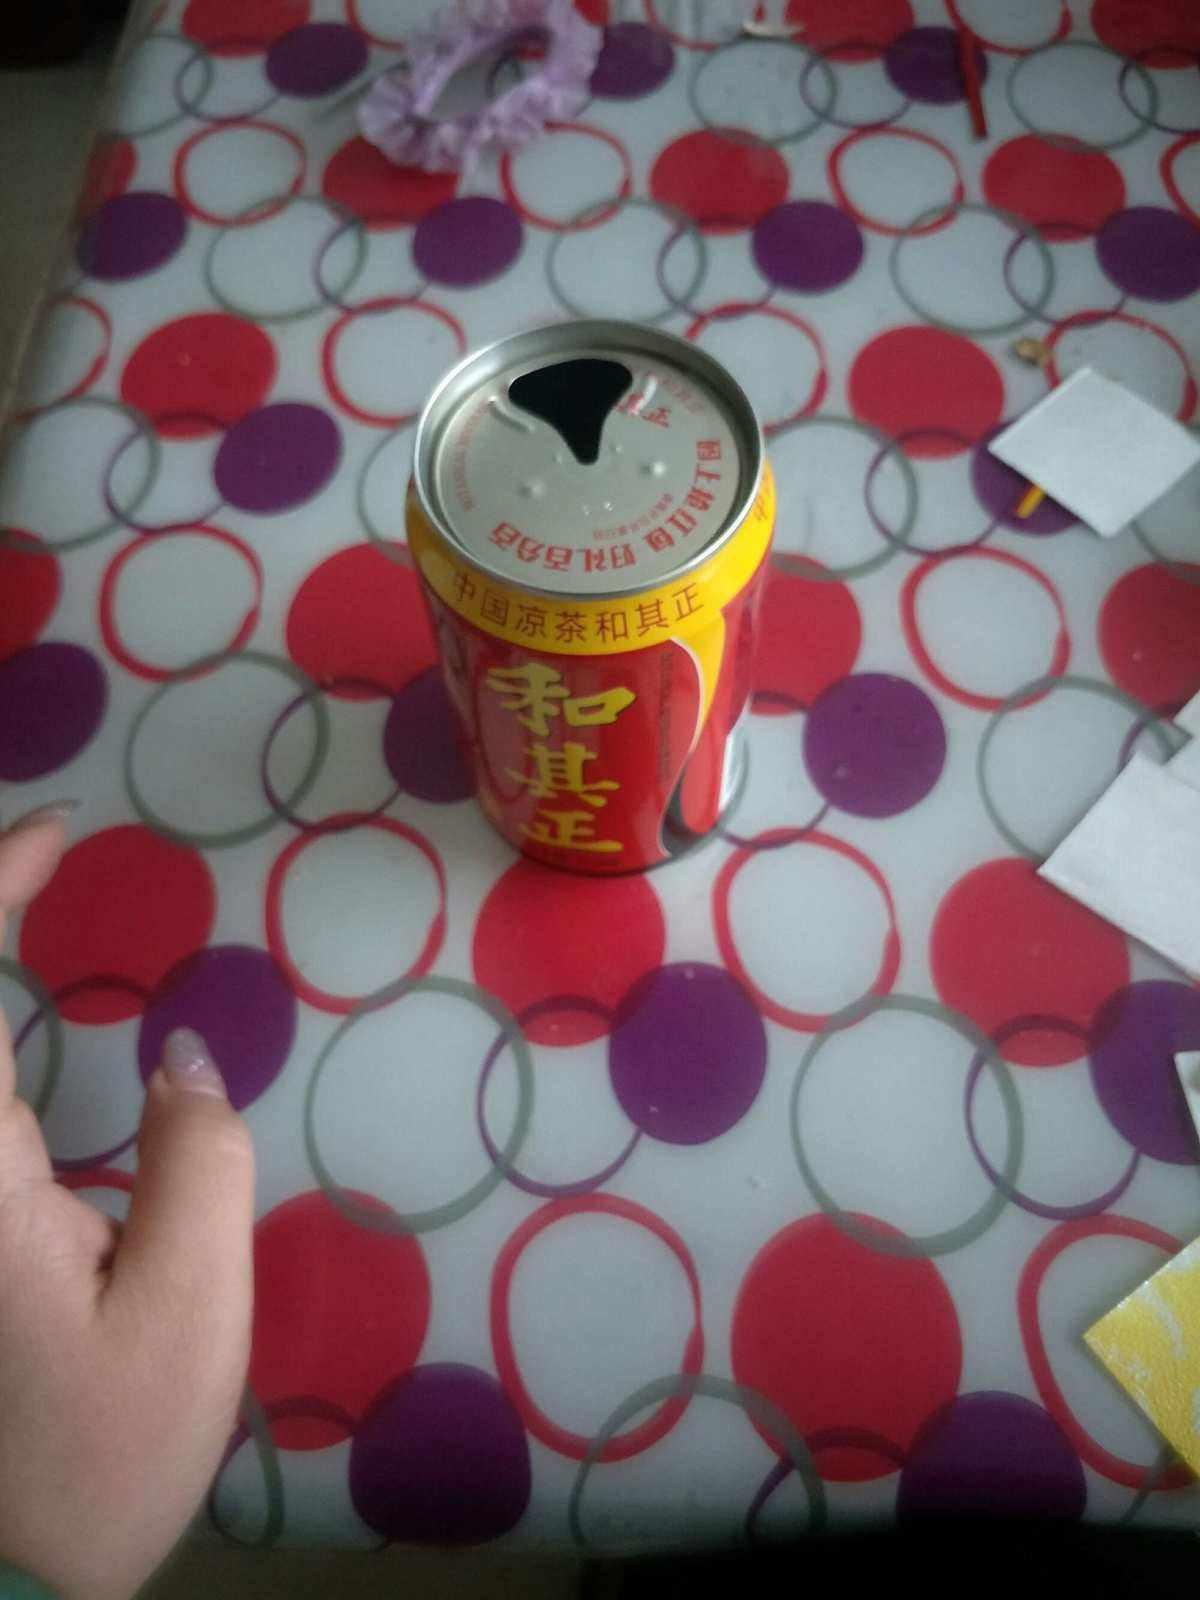metal: (406, 321, 774, 876)
organic: (731, 1214, 961, 1480)
